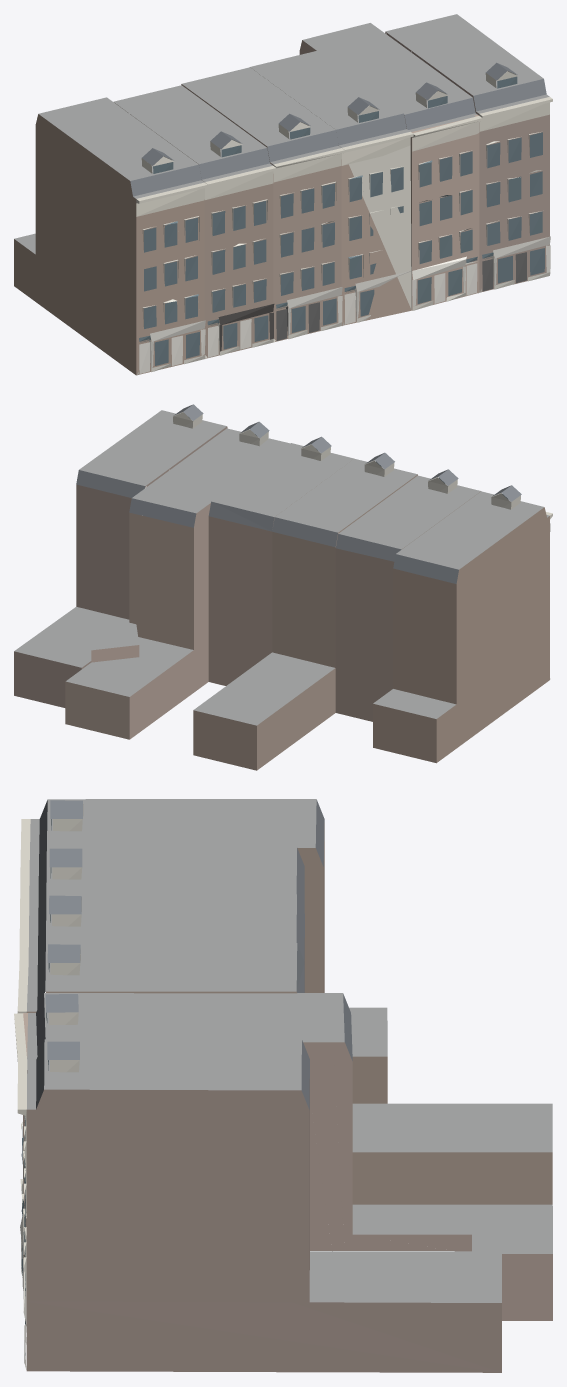
File: chunk-face-swinden-383-581-r1.lod2.glb
3 views of the same model, one above another, from view 1: azimuth 30°, elevation 25°; view 2: azimuth 150°, elevation 25°; view 3: azimuth 270°, elevation 25° (orthographic). The views are drawn at different scales.
Parts seen in each view (by area): view 1: lod2; view 2: lod2; view 3: lod2.
Part boxes in pixels (x1,y1,x2,y2): lod2: (14, 14, 552, 375); lod2: (14, 404, 552, 770); lod2: (14, 799, 552, 1372).
Size of the model in its own units: 30.45 by 14.62 by 23.44.
